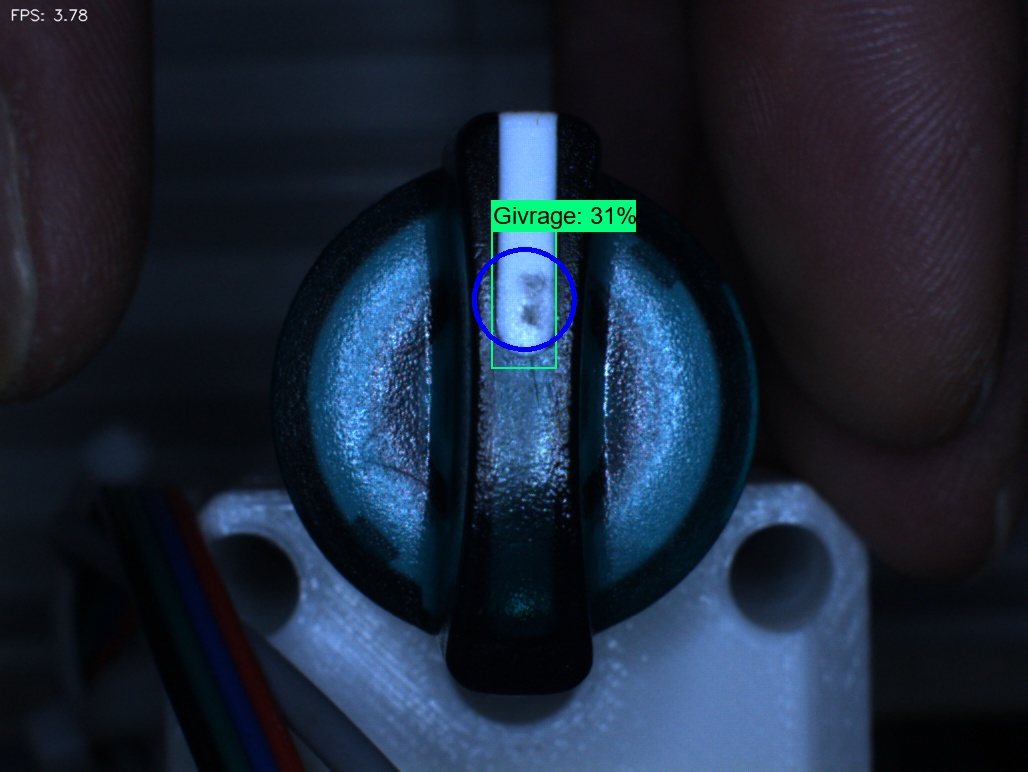PointNoir: (470, 251, 590, 370)
